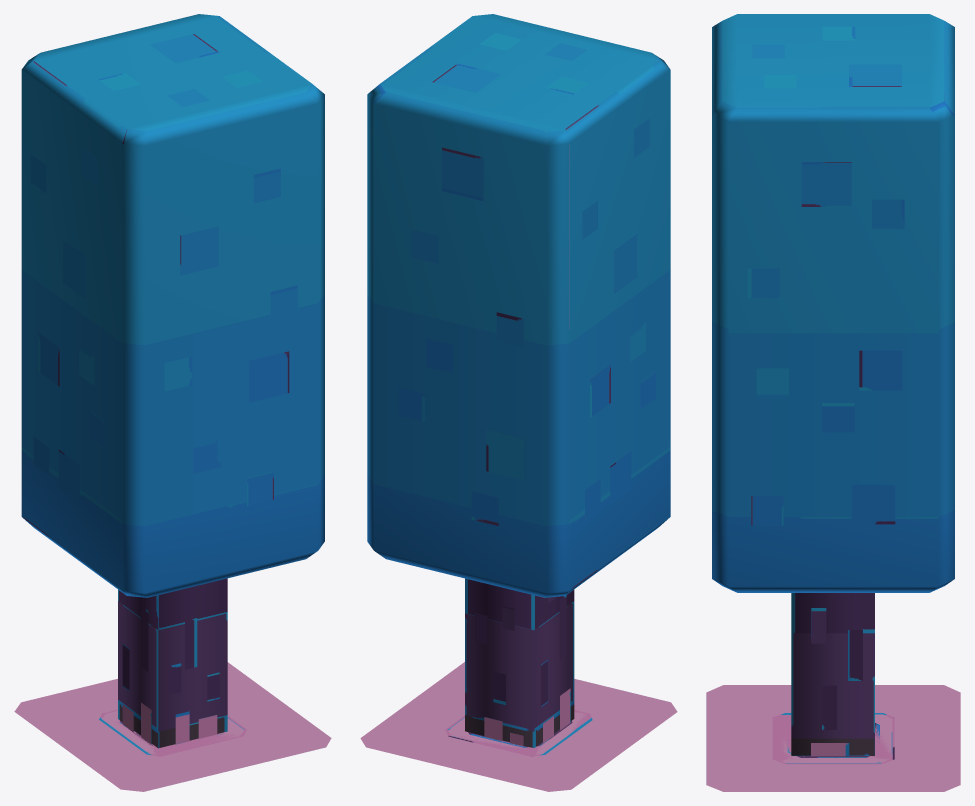
The model's file is B_forest2_tree00.fbx.
3 renders of one model, left to right at view 1: azimuth 30°, elevation 25°; view 2: azimuth 150°, elevation 25°; view 3: azimuth 270°, elevation 25°, orthographic. The views are drawn at different scales.
Parts seen in each view (by area): view 1: model 1, model; view 2: model 1, model; view 3: model 1, model.
Part boxes in pixels (bbox=[...]): model 1: bbox=[14, 14, 331, 791]; model: bbox=[101, 711, 244, 754]; model 1: bbox=[360, 14, 677, 791]; model: bbox=[447, 711, 586, 754]; model 1: bbox=[706, 14, 960, 791]; model: bbox=[780, 714, 892, 763].
Size of the model in its own units: 2.37 by 7.03 by 2.38.
